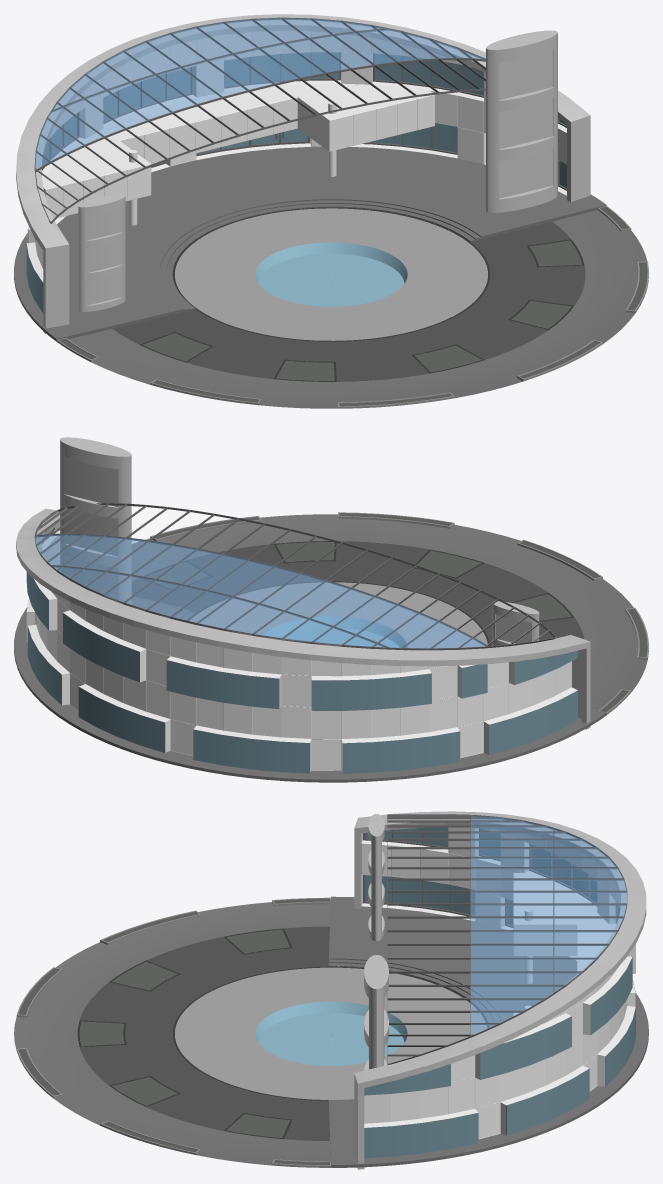
Rendered from entrance2.glb.
The picture shows the model from 3 angles, top to bottom: view 1: azimuth 30°, elevation 25°; view 2: azimuth 150°, elevation 25°; view 3: azimuth 270°, elevation 25°; orthographic projection.
Parts seen in each view (by area): view 1: divide9; view 2: divide9; view 3: divide9.
Boxes of the visible parts, x1,y1,x2,y2 form: divide9: (14,14,648,408); divide9: (14,437,648,782); divide9: (14,811,648,1169).
Size of the model in its own units: 3 by 0.9163 by 3.
